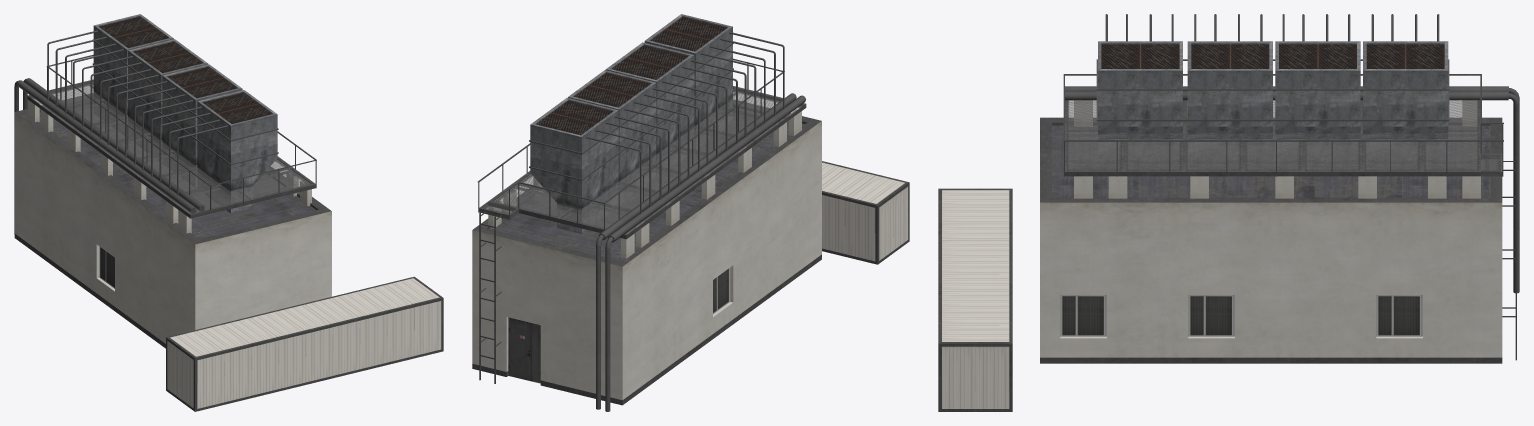
The model's file is plant-building16-2.glb.
The picture shows the model from 3 angles, left to right: view 1: azimuth 30°, elevation 25°; view 2: azimuth 150°, elevation 25°; view 3: azimuth 270°, elevation 25°; orthographic projection. The views are drawn at different scales.
Parts seen in each view (by area): view 1: Box13973; view 2: Box13973; view 3: Box13973.
Boxes of the visible parts, x1=… form: Box13973: x1=14, y1=14, x2=443, y2=411; Box13973: x1=472, y1=14, x2=909, y2=411; Box13973: x1=938, y1=14, x2=1519, y2=411.
Bounding box in the file's own units: 10.88 × 9.09 × 17.25.
1 material, 1 textured.
